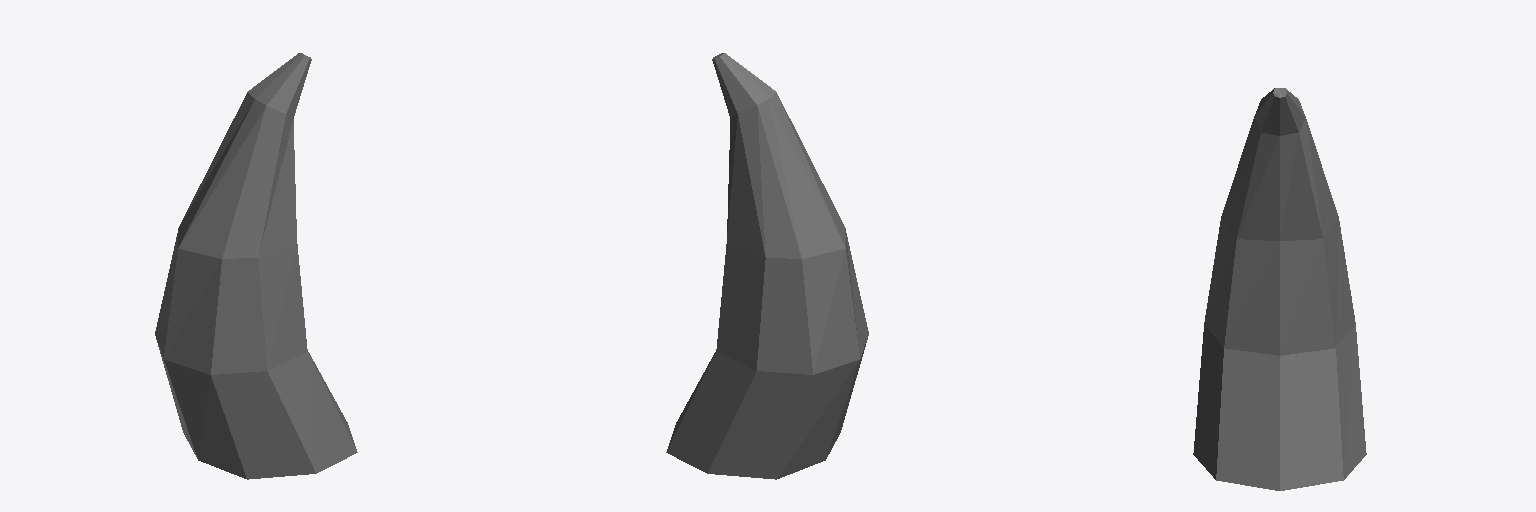
File: Machmaker_environmetnt_ROCK.obj
The picture shows the model from 3 angles: view 1: azimuth 30°, elevation 25°; view 2: azimuth 150°, elevation 25°; view 3: azimuth 270°, elevation 25°; orthographic projection.
Visible parts, largest first — view 1: pCube1; view 2: pCube1; view 3: pCube1.
Boxes of the visible parts, box(x1,y1,x2,y2) form: pCube1: box(155, 53, 357, 479); pCube1: box(666, 53, 868, 479); pCube1: box(1193, 88, 1366, 490).
Size of the model in its own units: 1.67 by 3.29 by 1.36.